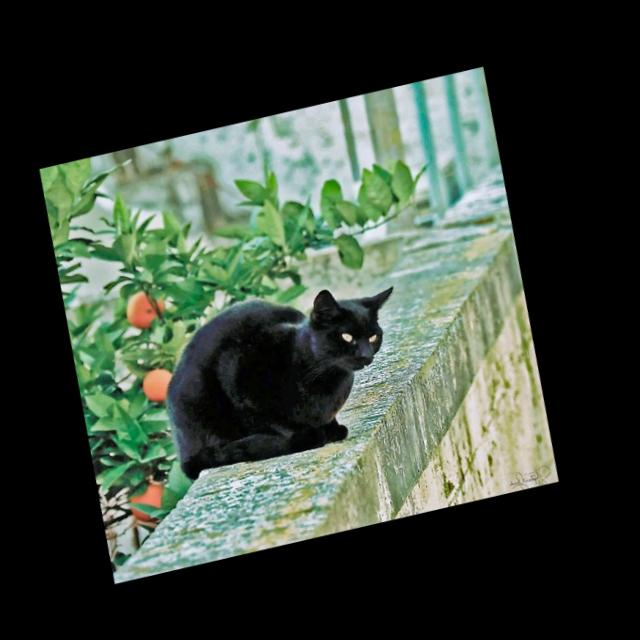animals: (146, 262, 434, 481)
